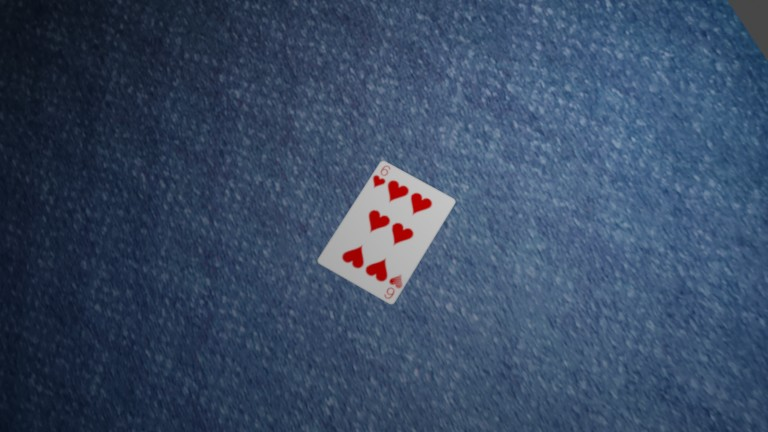6_of_hearts: (379, 270, 408, 303), (367, 162, 395, 192)
